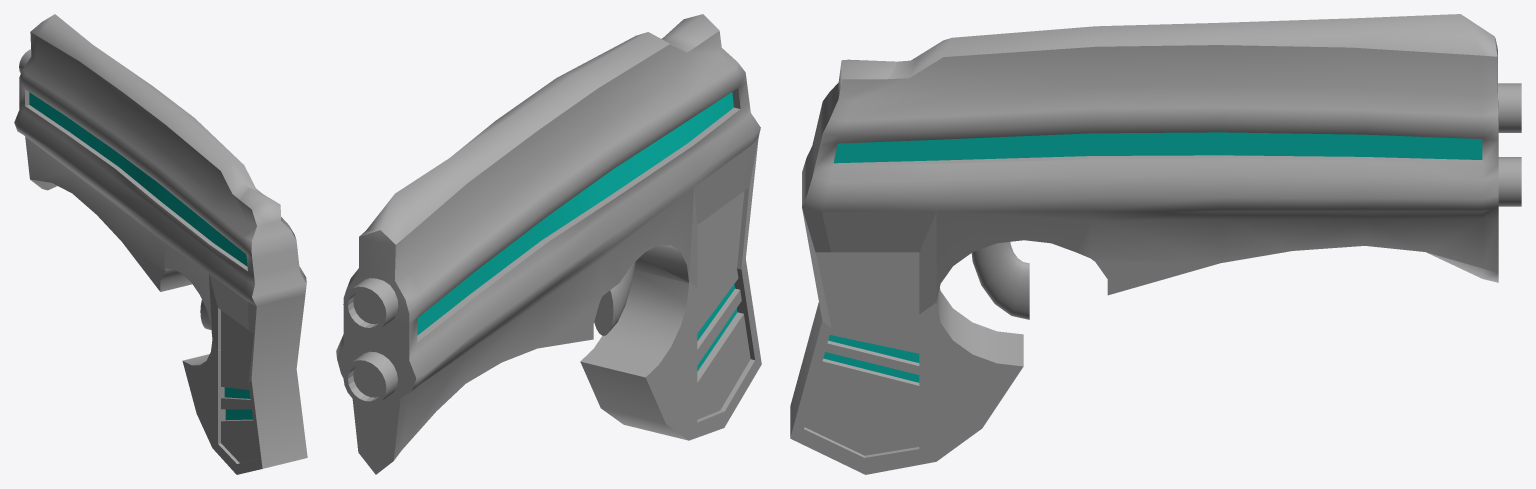
Rendered from Pistolinha.fbx.
3 renders of one model, left to right at view 1: azimuth 30°, elevation 25°; view 2: azimuth 150°, elevation 25°; view 3: azimuth 270°, elevation 25°, orthographic. The views are drawn at different scales.
Visible parts, largest first — view 1: pCube3; view 2: pCube3; view 3: pCube3.
Part boxes in pixels (box(x1,y1,x2,y2)): pCube3: box(14, 14, 307, 474); pCube3: box(336, 14, 761, 474); pCube3: box(790, 14, 1521, 474).
Bounding box in the file's own units: 1.51 × 7.05 × 10.5.
